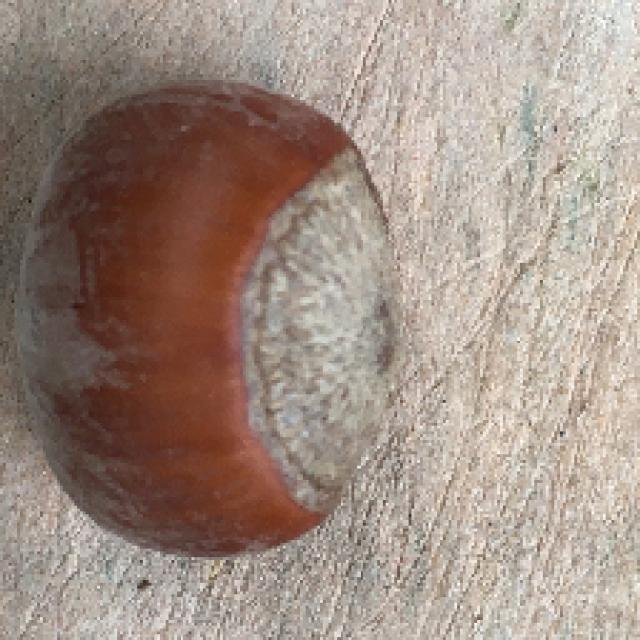qualityHazelnut: (4, 73, 400, 569)
